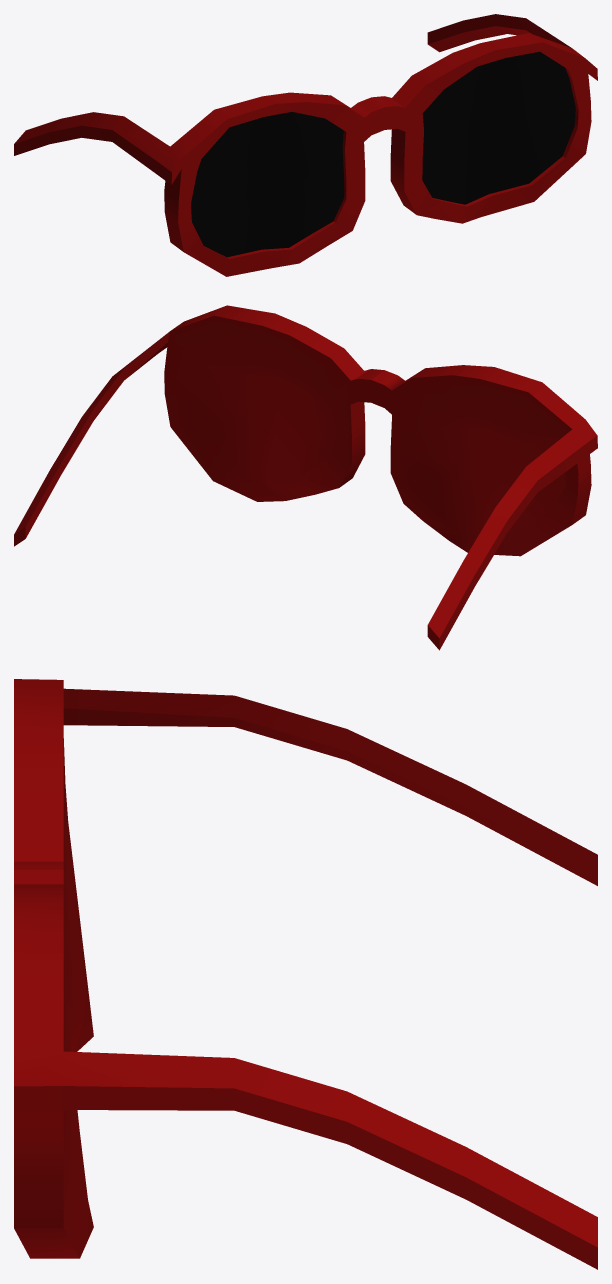
File: sunnies.fbx
3 renders of one model, top to bottom at view 1: azimuth 30°, elevation 25°; view 2: azimuth 150°, elevation 25°; view 3: azimuth 270°, elevation 25°, orthographic. The views are drawn at different scales.
Parts seen in each view (by area): view 1: pPlane1; view 2: pPlane1; view 3: pPlane1.
Boxes of the visible parts, box(x1,y1,x2,y2) form: pPlane1: box(14, 14, 597, 276); pPlane1: box(14, 305, 597, 650); pPlane1: box(14, 679, 597, 1269).
Bounding box in the file's own units: 10 × 3.85 × 6.42.
